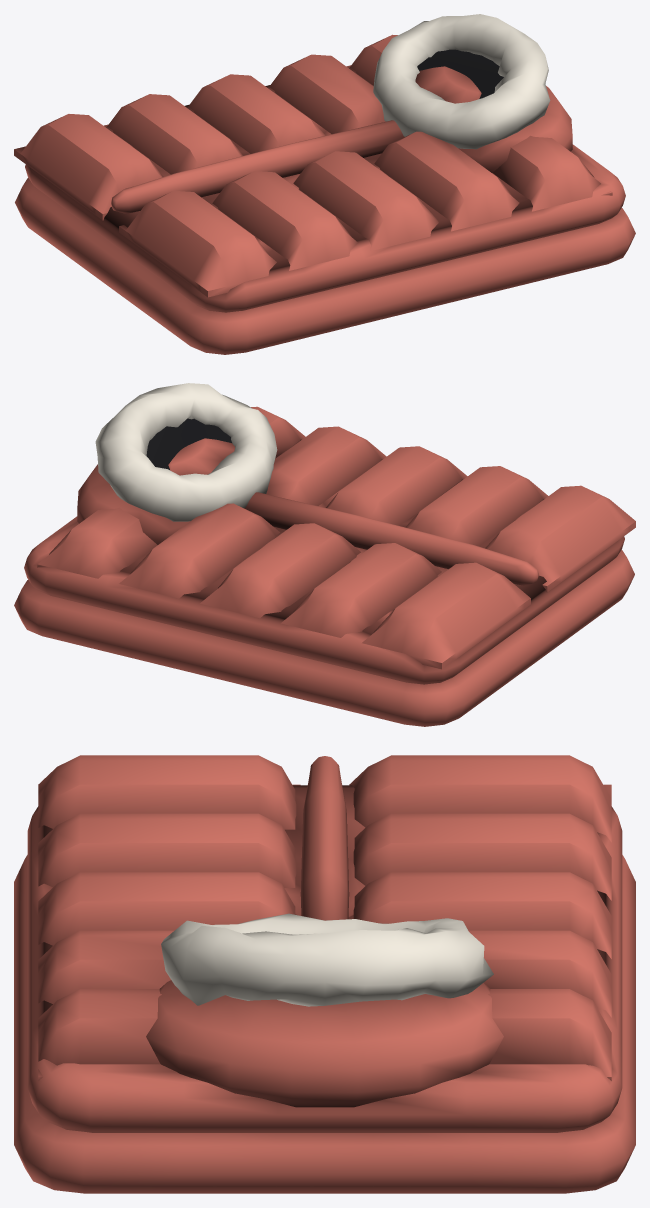
Rendered from wear_down.glb.
3 views of the same model, one above another, from view 1: azimuth 30°, elevation 25°; view 2: azimuth 150°, elevation 25°; view 3: azimuth 270°, elevation 25° (orthographic). The views are drawn at different scales.
Visible parts, largest first — view 1: PART; view 2: PART; view 3: PART.
Boxes of the visible parts, <box> form: PART: <box>14,14,635,354</box>; PART: <box>14,383,635,726</box>; PART: <box>14,755,635,1193</box>.
Bounding box in the file's own units: 0.44 × 0.1599 × 0.36.
